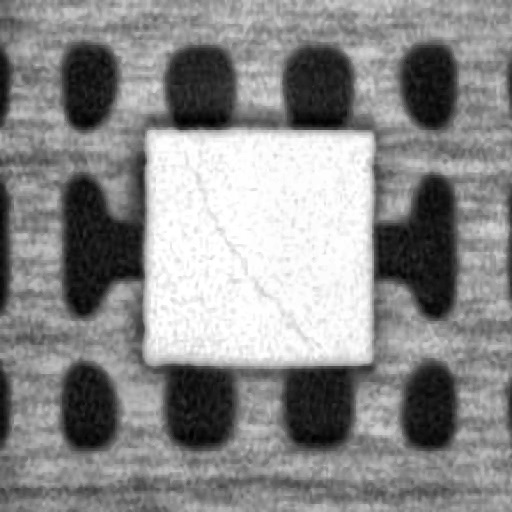DIE_CRACK: (182, 156, 314, 348)
